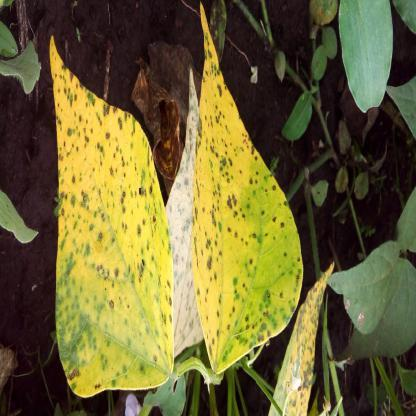Beans_Angular_LeafSpot: (180, 6, 302, 367), (45, 44, 171, 375), (272, 259, 340, 414)
